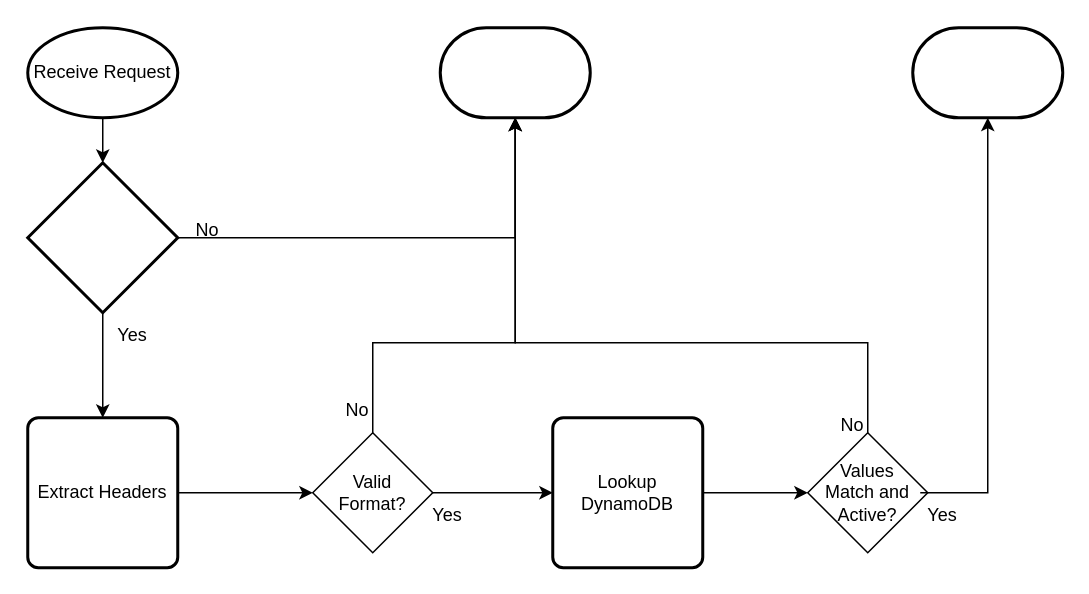
Some shapes in this 1089 by 594 pixel diagram are drawn without their labels. The box of each missing label's shape, as (x1, y1, x2, y2) in pixels:
Headers Exist?: (26, 160, 178, 314)
Permit Request: (910, 26, 1064, 118)
Return 401: (438, 26, 591, 118)
